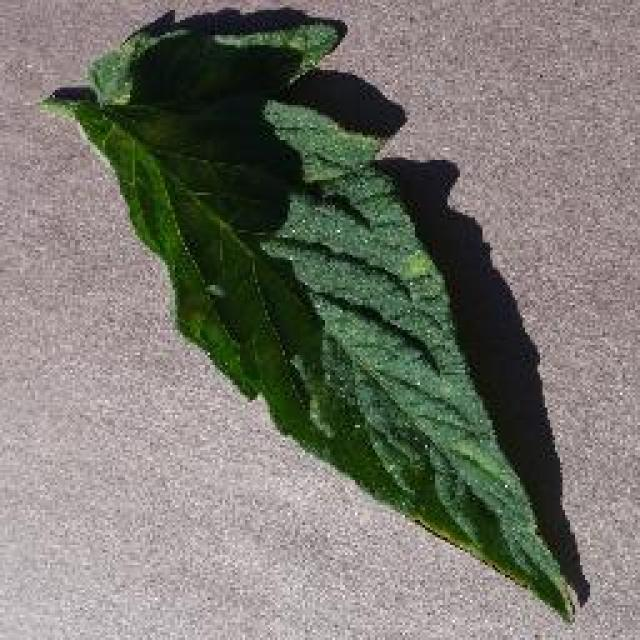Tomato___Leaf_Mold: (40, 2, 586, 625)
